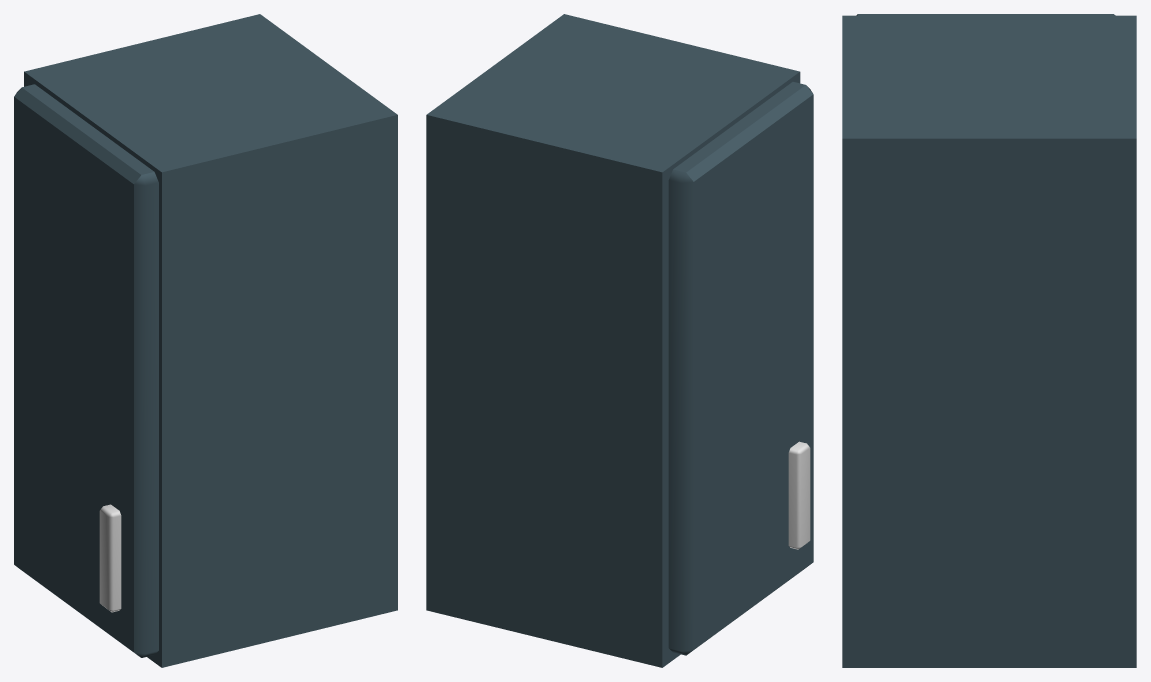
The model's file is kitchen_048.fbx.
3 renders of one model, left to right at view 1: azimuth 30°, elevation 25°; view 2: azimuth 150°, elevation 25°; view 3: azimuth 270°, elevation 25°, orthographic. The views are drawn at different scales.
Parts seen in each view (by area): view 1: kitchen_048; view 2: kitchen_048; view 3: kitchen_048.
Boxes of the visible parts, x1,y1,x2,y2 form: kitchen_048: [14, 14, 397, 667]; kitchen_048: [426, 14, 813, 667]; kitchen_048: [842, 14, 1136, 667].
Bounding box in the file's own units: 56.53 × 50.38 × 100.
